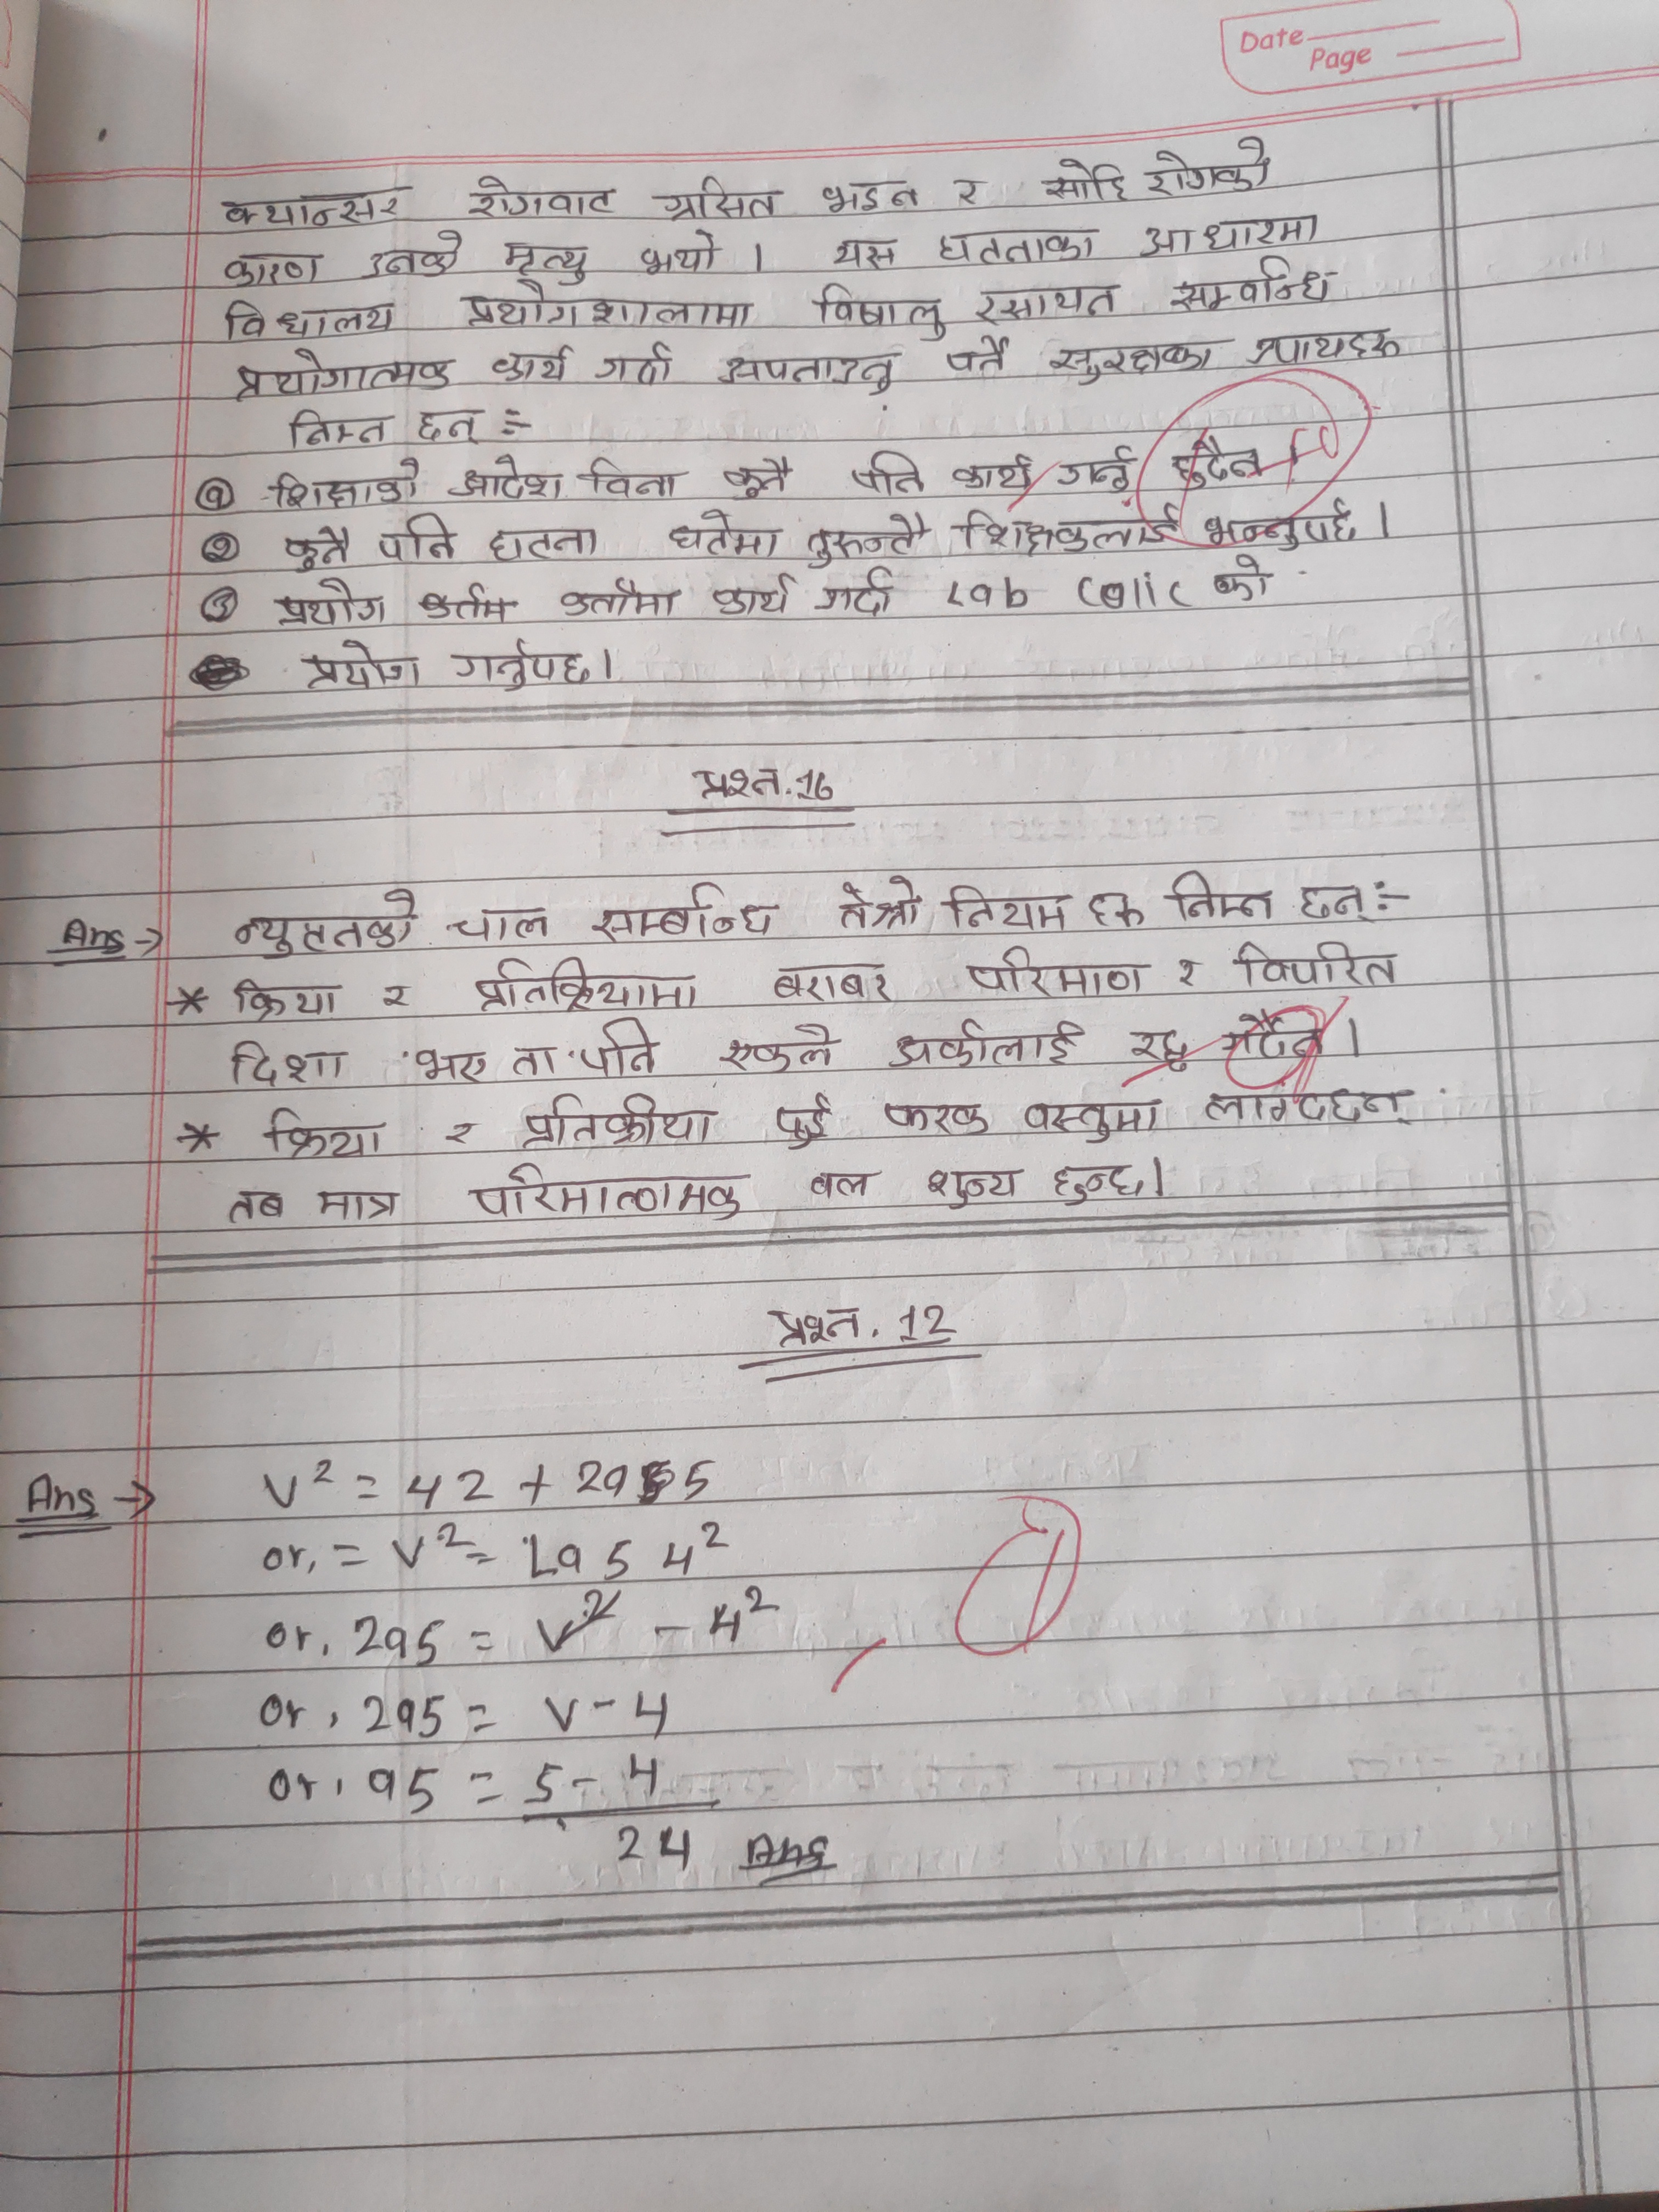text: (460, 1158, 746, 1221), (453, 282, 762, 333), (232, 887, 422, 960), (465, 954, 704, 1010), (586, 881, 775, 949), (960, 941, 1154, 1000), (237, 347, 465, 395), (519, 1094, 716, 1150), (889, 1017, 1087, 1071), (953, 507, 1178, 554), (1230, 935, 1403, 993), (1166, 254, 1331, 312), (709, 350, 904, 395), (1199, 1089, 1417, 1129), (809, 282, 950, 341), (1141, 211, 1324, 256), (1046, 336, 1225, 381), (1243, 324, 1408, 373), (1134, 139, 1279, 195), (265, 458, 423, 509), (223, 296, 396, 341), (453, 632, 589, 690), (802, 512, 932, 570), (214, 188, 401, 228), (1199, 505, 1363, 550), (263, 1109, 390, 1167), (938, 880, 1068, 935), (1023, 1097, 1166, 1148), (1162, 866, 1276, 928), (223, 1036, 354, 1089), (465, 171, 615, 216), (969, 280, 1122, 324), (300, 637, 422, 691), (934, 226, 1098, 266), (453, 455, 568, 510), (671, 505, 782, 563), (1220, 1008, 1333, 1064), (721, 1021, 835, 1075), (577, 1010, 662, 1080), (1166, 432, 1267, 489), (880, 1089, 995, 1139), (265, 578, 392, 624), (556, 575, 678, 622), (772, 960, 894, 1007), (830, 878, 929, 934), (361, 230, 464, 282), (924, 1163, 1025, 1216), (230, 979, 345, 1024), (446, 900, 552, 949), (1044, 1160, 1145, 1209), (660, 179, 775, 221), (282, 408, 392, 451), (1037, 155, 1131, 206), (498, 237, 592, 287), (582, 456, 685, 502), (845, 448, 931, 502), (760, 1301, 864, 1345), (216, 249, 324, 291), (312, 1184, 406, 1231), (812, 566, 894, 620), (683, 765, 784, 808), (816, 178, 924, 218), (598, 340, 676, 392), (488, 528, 605, 563), (772, 1089, 836, 1151), (486, 341, 579, 385), (376, 514, 460, 561), (641, 228, 716, 280), (1061, 446, 1140, 495), (282, 521, 350, 577), (410, 1043, 490, 1089), (1119, 1029, 1199, 1075), (713, 571, 795, 615), (1298, 881, 1375, 927), (953, 451, 1032, 495), (1209, 549, 1274, 601), (716, 458, 791, 502), (410, 404, 486, 446), (227, 1183, 291, 1230), (1087, 883, 1143, 937), (943, 334, 1012, 376), (826, 239, 903, 273), (807, 1169, 866, 1205), (504, 1043, 556, 1082), (436, 1116, 484, 1150), (1164, 954, 1204, 995), (380, 977, 416, 1014), (943, 176, 981, 206)
